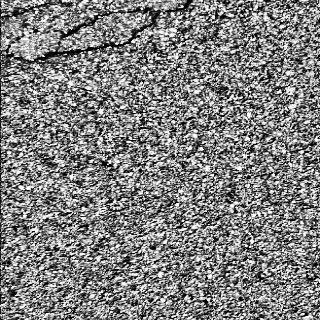crack: (0, 1, 203, 64)
